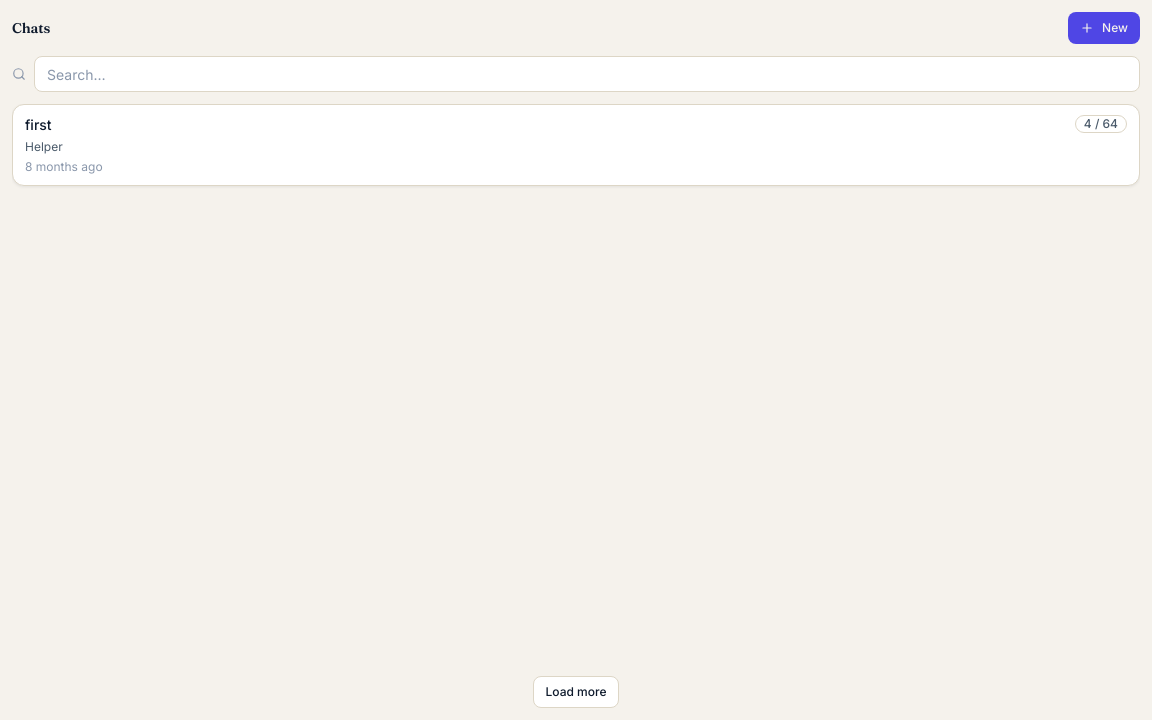
Test: ConversationList › pagination: first page renders, Load more appends the next page
Expected: the text "first" is shown, 25,116 -> 52,133
Click the button "Load more".
click(576, 692)  # box 532,676 -> 620,708
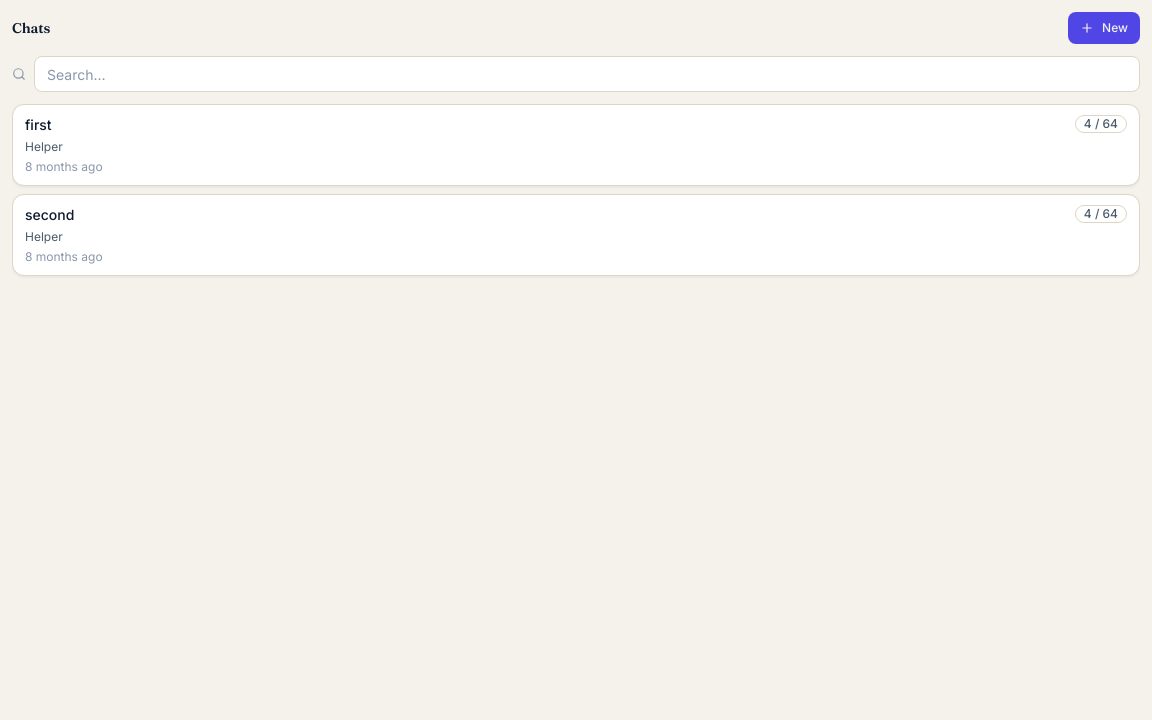
Result: the text "second" is shown at 25,206 -> 74,223
